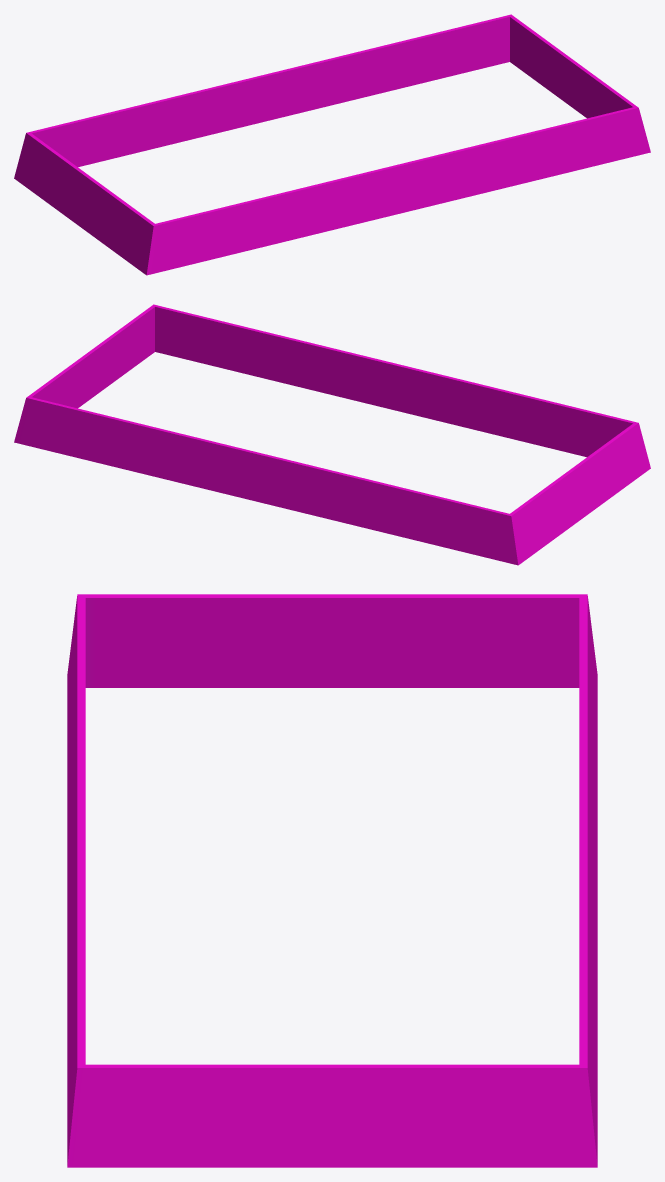
The model's file is topDecor.fbx.
3 views of the same model, one above another, from view 1: azimuth 30°, elevation 25°; view 2: azimuth 150°, elevation 25°; view 3: azimuth 270°, elevation 25° (orthographic). The views are drawn at different scales.
Parts seen in each view (by area): view 1: Box012; view 2: Box012; view 3: Box012.
Part boxes in pixels (box(x1,y1,x2,y2)): Box012: box(14, 14, 650, 275); Box012: box(14, 304, 650, 565); Box012: box(67, 594, 597, 1167).
Bounding box in the file's own units: 11.4 × 0.9744 × 5.19.
